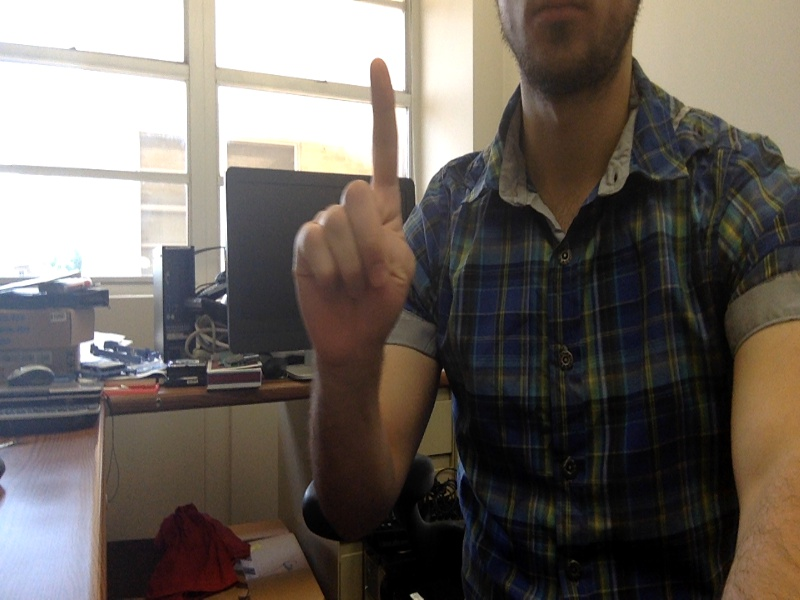1-hand: (291, 61, 416, 367)
